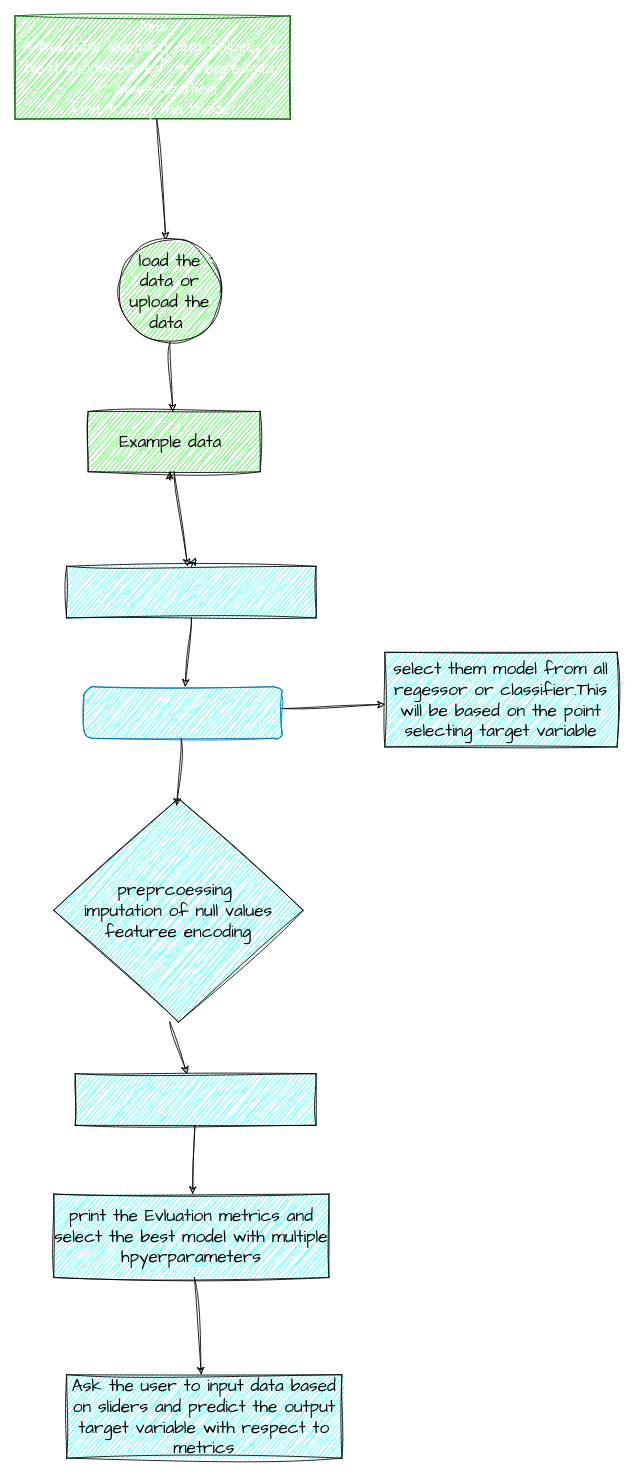
This 632x1474 diagram has some shape labels left out. Here are the shapes that lost their labels. From the top down, the centre of each, then its label:
point 191,591: check the columns names and data type
point 182,712: Asking for the features and targets
point 195,1099: add the evluation metrics based on the problem
